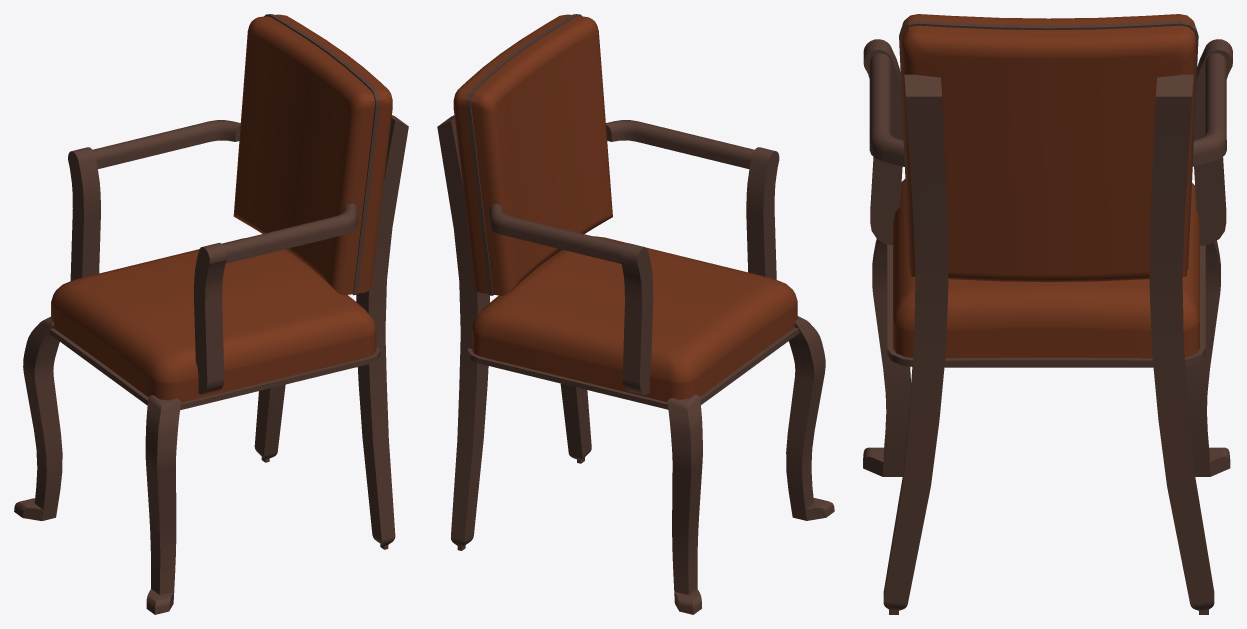
Rendered from SM_Chair.fbx.
3 views of the same model, side by side, from view 1: azimuth 30°, elevation 25°; view 2: azimuth 150°, elevation 25°; view 3: azimuth 270°, elevation 25° (orthographic). The views are drawn at different scales.
Visible parts, largest first — view 1: pCube148; view 2: pCube148; view 3: pCube148.
Part boxes in pixels (x1,y1,x2,y2): pCube148: (14,14,408,614); pCube148: (437,14,834,614); pCube148: (863,14,1232,614).
Bounding box in the file's own units: 62.93 × 101 × 57.28.
